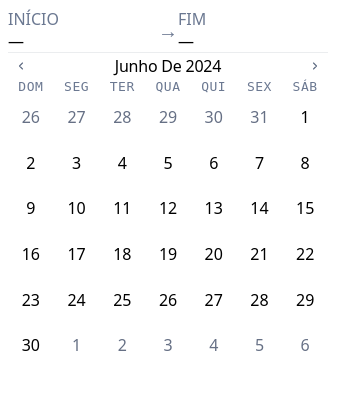
Test: <DateRangePicker /> › second click completes the range and shows the day count
Click the cell "10" at (77, 208), box [54,185,99,231]
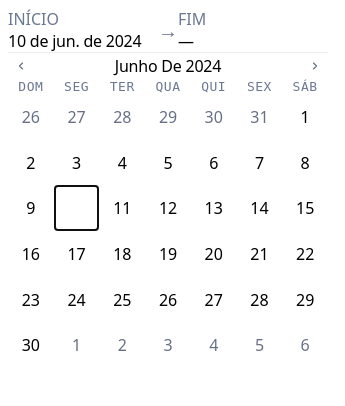
Click the cell "20" at (214, 254), box [191,231,236,277]
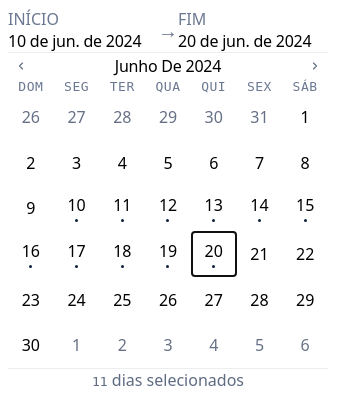
Check: the text "10 de jun. de 2024" is shown, box [8,30,158,52]
Check: the text "20 de jun. de 2024" is shown, box [178,30,328,52]
Check: the text "11" next to "dias selecionados" is shown, box [92,374,108,389]
